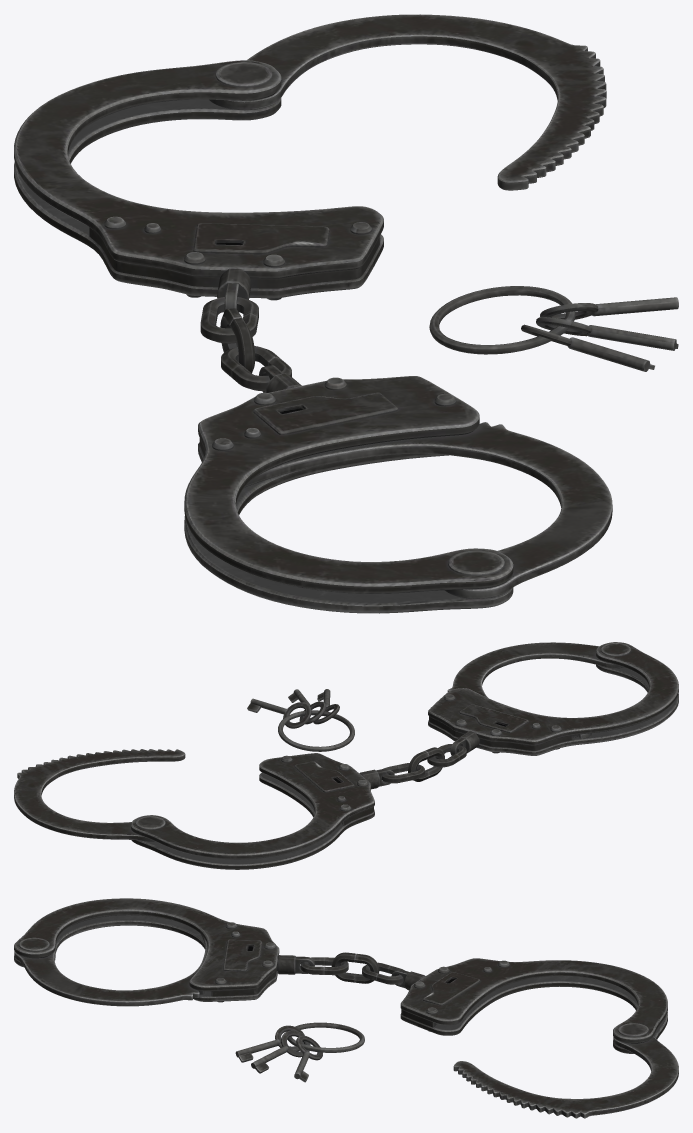
The model's file is handcuffs.glb.
3 renders of one model, top to bottom at view 1: azimuth 30°, elevation 25°; view 2: azimuth 150°, elevation 25°; view 3: azimuth 270°, elevation 25°, orthographic. The views are drawn at different scales.
Parts seen in each view (by area): view 1: Object_3; view 2: Object_3; view 3: Object_3.
Part boxes in pixels (x1=…): Object_3: x1=14, y1=14, x2=678, y2=613; Object_3: x1=14, y1=642, x2=678, y2=869; Object_3: x1=14, y1=898, x2=678, y2=1118.
Bounding box in the file's own units: 4.48 × 0.273 × 5.99.
Materials: 1 (1 with a texture image).
